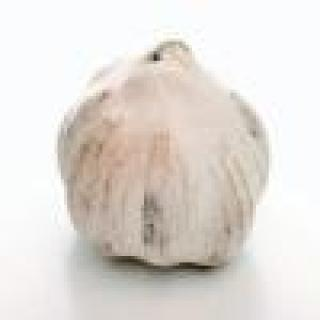Bawang Putih: (49, 33, 283, 276)
